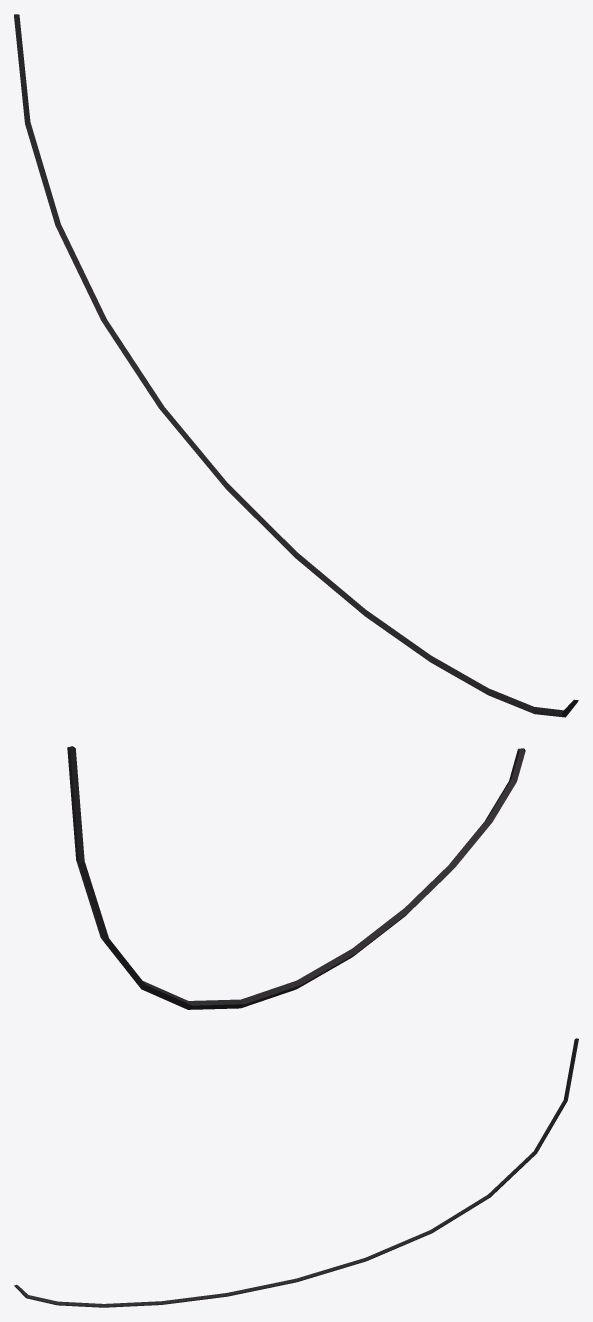
The model's file is TrussB.glb.
The picture shows the model from 3 angles, top to bottom: view 1: azimuth 30°, elevation 25°; view 2: azimuth 150°, elevation 25°; view 3: azimuth 270°, elevation 25°; orthographic projection. The views are drawn at different scales.
Parts seen in each view (by area): view 1: Obj_TT_tube.002; view 2: Obj_TT_tube.002; view 3: Obj_TT_tube.002.
Part boxes in pixels (box(x1,y1,x2,y2)): Obj_TT_tube.002: box(14, 14, 578, 717); Obj_TT_tube.002: box(67, 746, 525, 1009); Obj_TT_tube.002: box(14, 1038, 578, 1307).
Bounding box in the file's own units: 2.16 × 8.62 × 17.95.
1 material, 1 textured.
